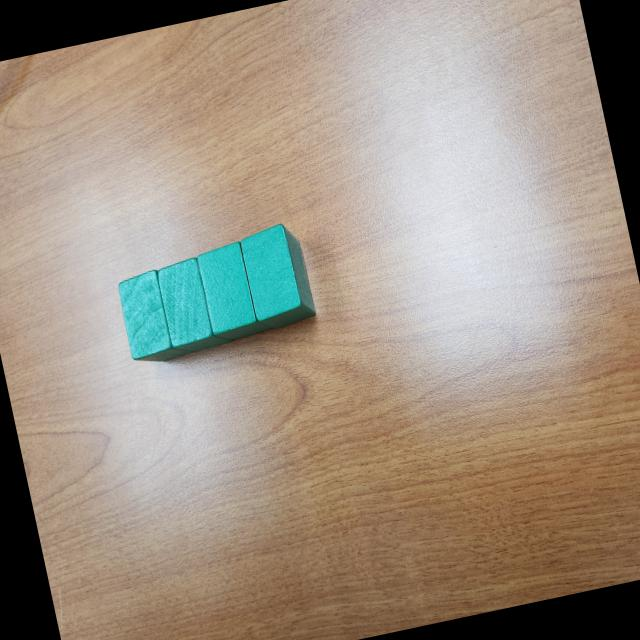green: (237, 218, 318, 334), (193, 236, 274, 347), (114, 264, 198, 370), (154, 252, 234, 358)
